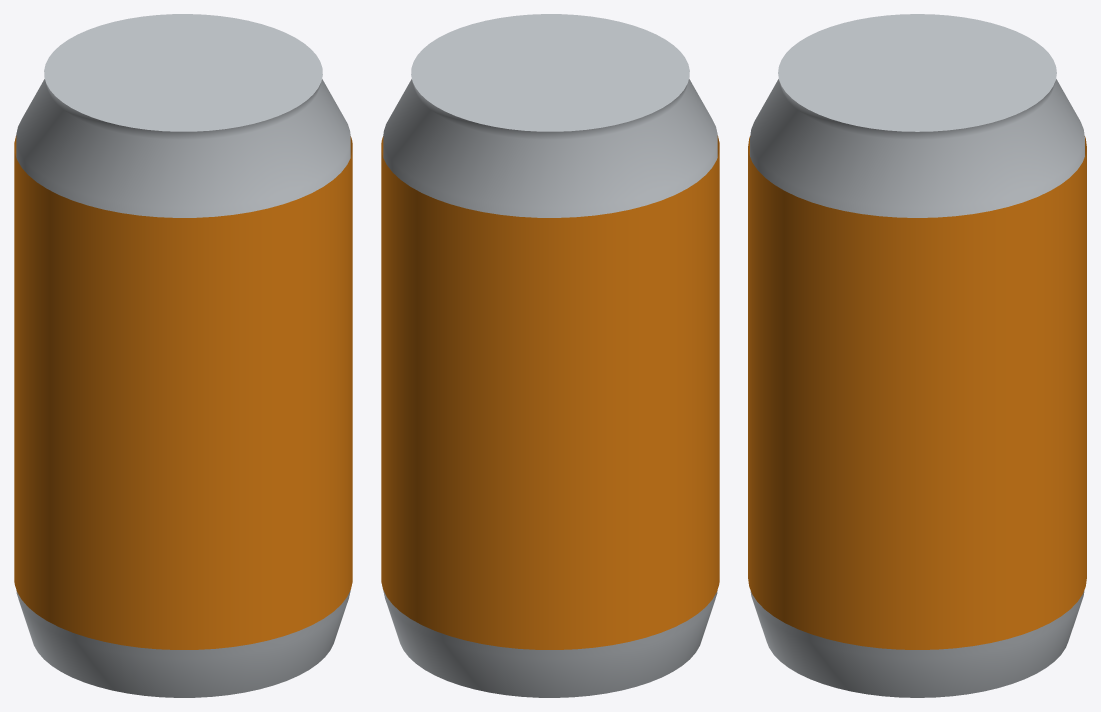
Rendered from lata-laranja.glb.
3 views of the same model, side by side, from view 1: azimuth 30°, elevation 25°; view 2: azimuth 150°, elevation 25°; view 3: azimuth 270°, elevation 25° (orthographic).
Visible parts, largest first — view 1: lata-laranja; view 2: lata-laranja; view 3: lata-laranja.
Part boxes in pixels (x1,y1,x2,y2): lata-laranja: (14, 14, 352, 697); lata-laranja: (381, 14, 719, 697); lata-laranja: (748, 14, 1086, 697).
Bounding box in the file's own units: 0.0668 × 0.122 × 0.0668.
